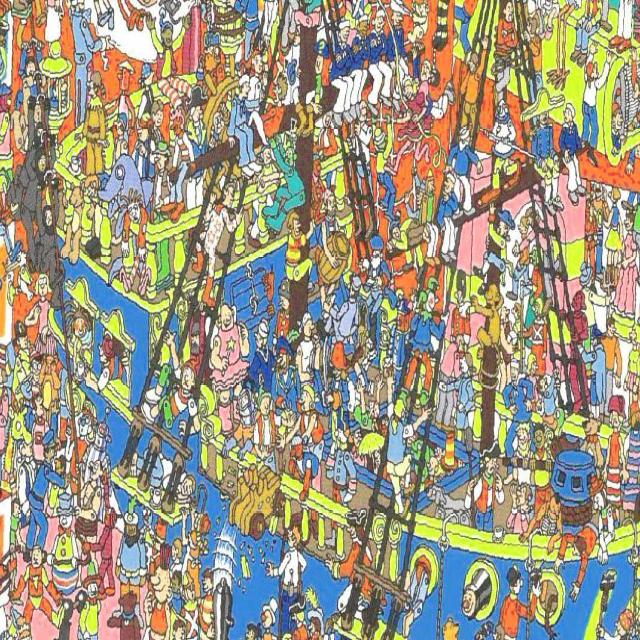waldo: (28, 345, 44, 383)
